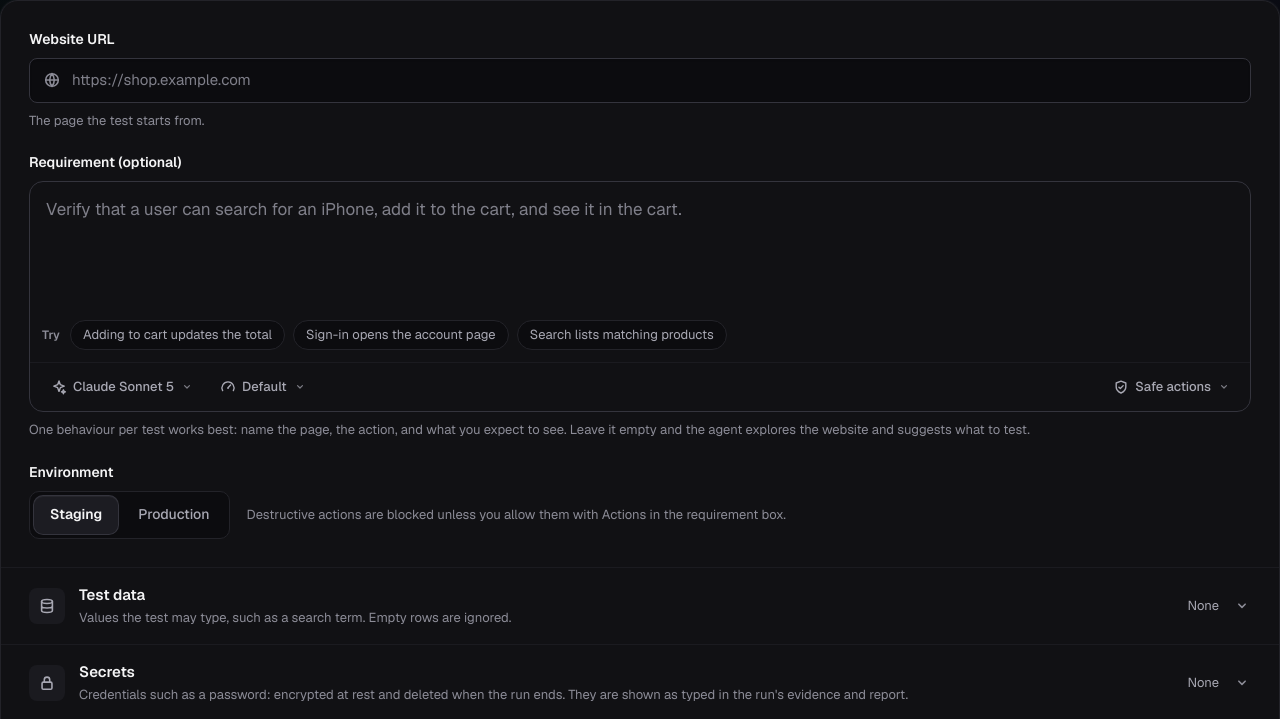
Test case: NewTestForm › says which credentials it takes from the requirement (V1.3.1)
Type "Log in as admin@shop.test with password Adm1n#2026 and see the dashboard." into the text box labelled "Requirement (optional)". click: (640, 248)
box: [30,182,1250,314]
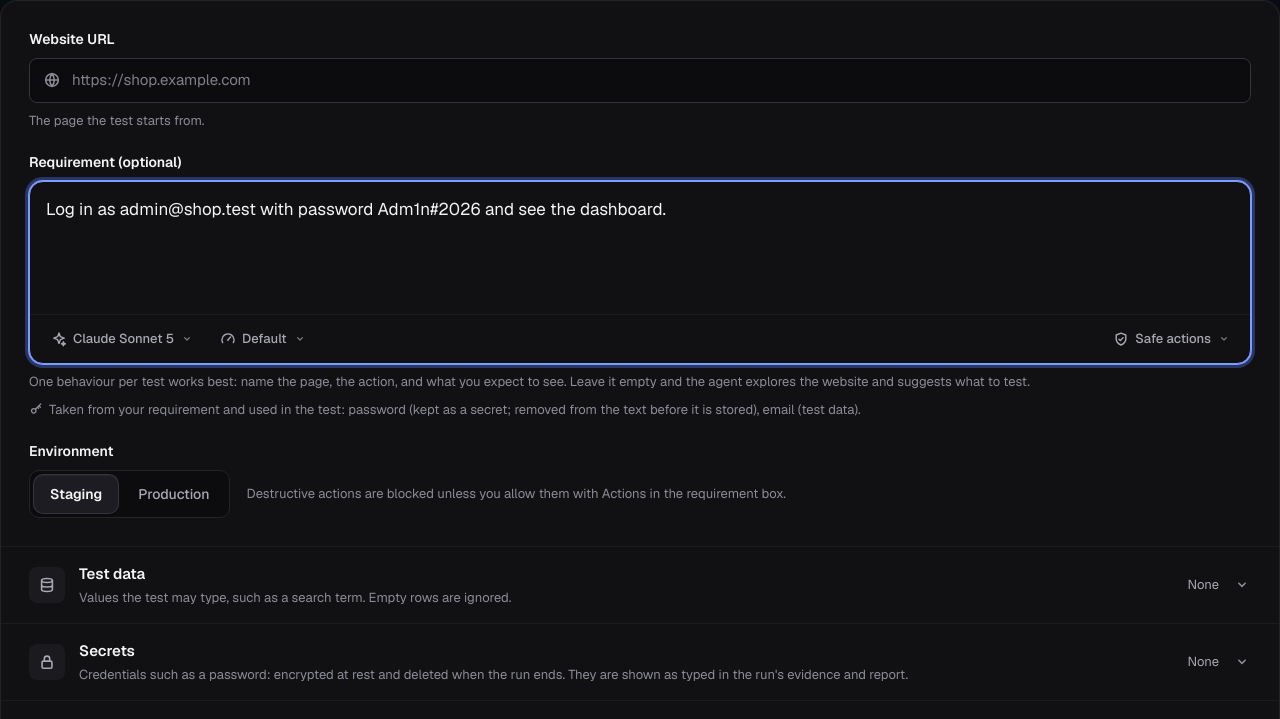
Expected: the message shows "Taken from your requirement and used in the test: password (kept as a secret; removed from the text before it is stored), email (test data).", [29,400,861,418]
